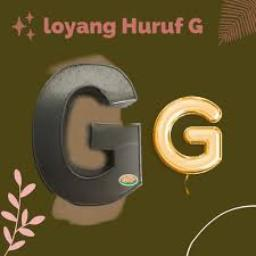g: (28, 60, 146, 202), (144, 79, 232, 179)
